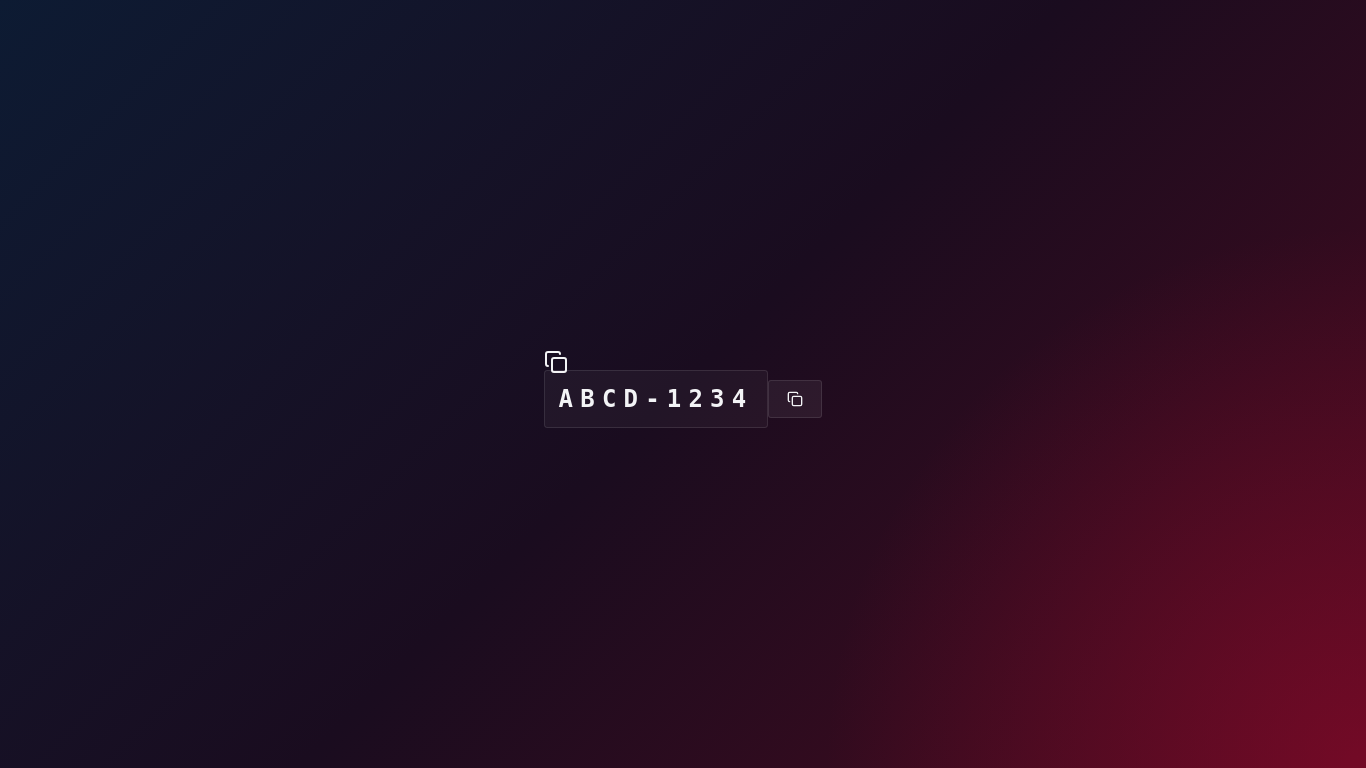
Test case: display › CopyButton and CodeDisplay announce copying
The image size is (1366, 768).
Click the button named "Cop" at (556, 362), box [544,350,568,374]
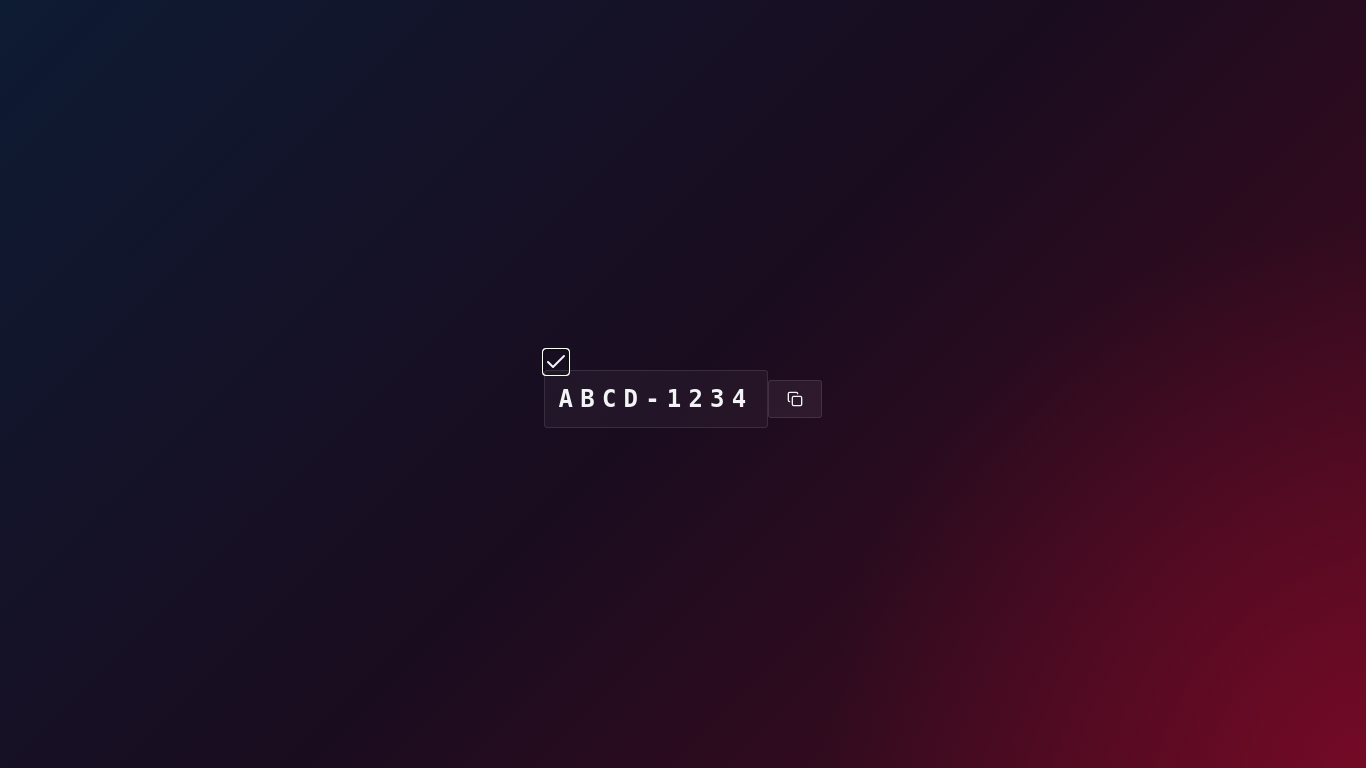
Expected: the text "ABCD-1234" is shown, [544,370,768,428]
Result: the button named "Copied" is shown at [544,350,568,374]
